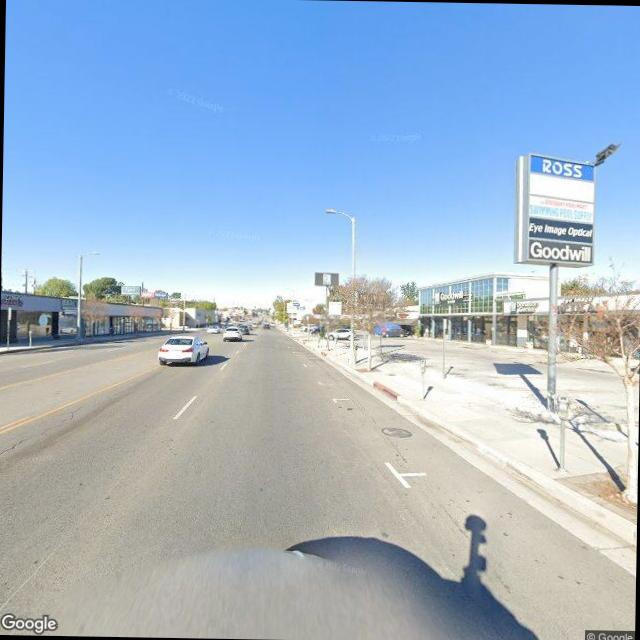pothole: (0, 402, 83, 491)
